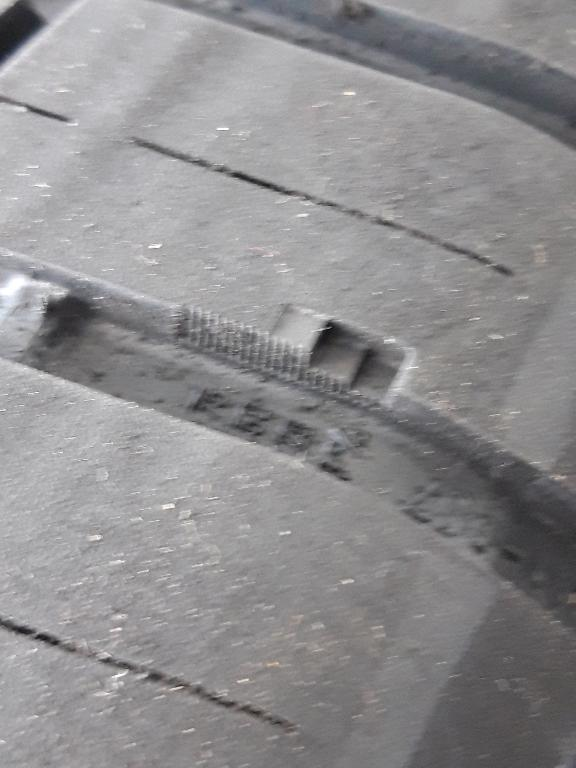temoin:50: (252, 294, 422, 431)
